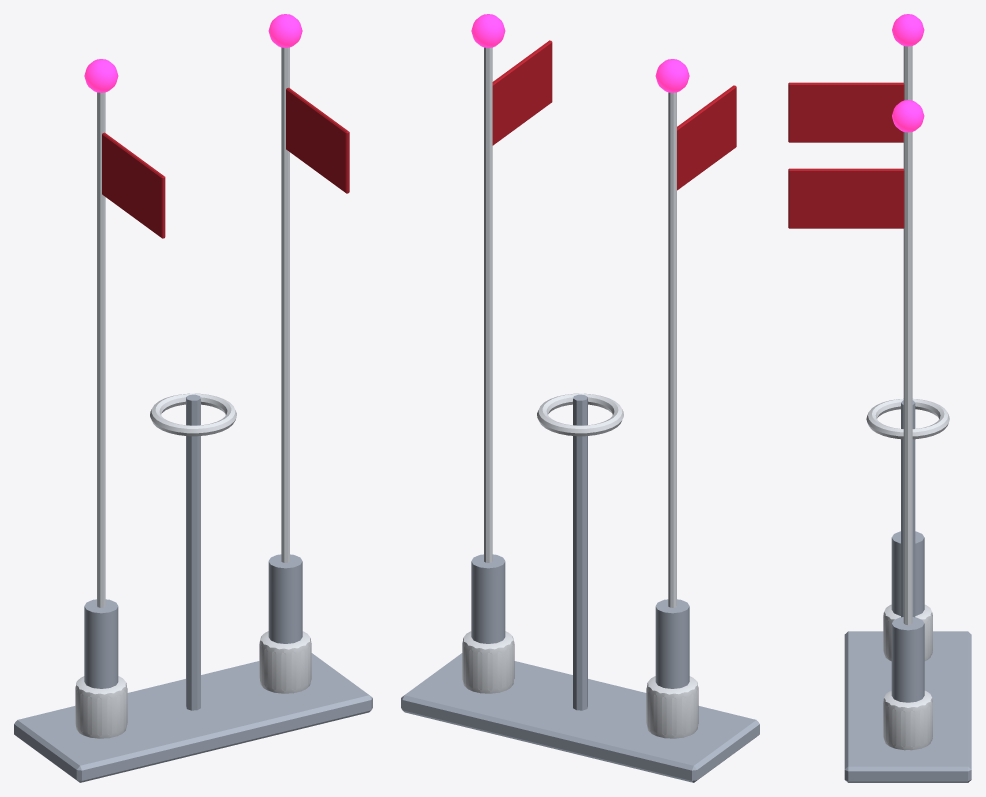
File: antenna_decor_mount.glb
3 views of the same model, side by side, from view 1: azimuth 30°, elevation 25°; view 2: azimuth 150°, elevation 25°; view 3: azimuth 270°, elevation 25° (orthographic). The views are drawn at different scales.
Visible parts, largest first — view 1: steel, chrome, paint_red, lamp_pink; view 2: steel, chrome, paint_red, lamp_pink; view 3: steel, paint_red, chrome, lamp_pink.
Boxes of the visible parts, x1=… form: steel: x1=14, y1=394, x2=372, y2=782; chrome: x1=75, y1=47, x2=311, y2=738; paint_red: x1=102, y1=87, x2=349, y2=238; lamp_pink: x1=84, y1=14, x2=302, y2=92; steel: x1=401, y1=394, x2=759, y2=782; chrome: x1=462, y1=47, x2=698, y2=738; paint_red: x1=492, y1=40, x2=736, y2=190; lamp_pink: x1=471, y1=14, x2=689, y2=92; steel: x1=844, y1=400, x2=971, y2=782; paint_red: x1=788, y1=82, x2=904, y2=228; chrome: x1=866, y1=46, x2=949, y2=750; lamp_pink: x1=892, y1=14, x2=924, y2=132.
Bounding box in the file's own units: 0.9 × 2 × 0.505.
